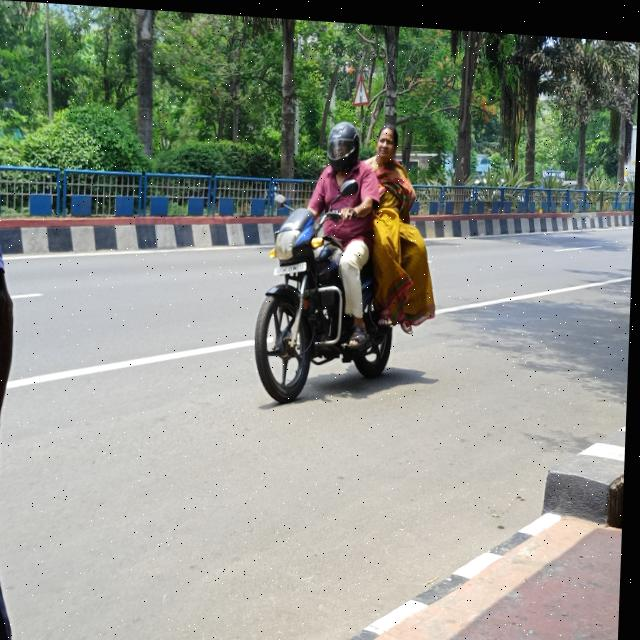bike: (242, 206, 432, 400)
